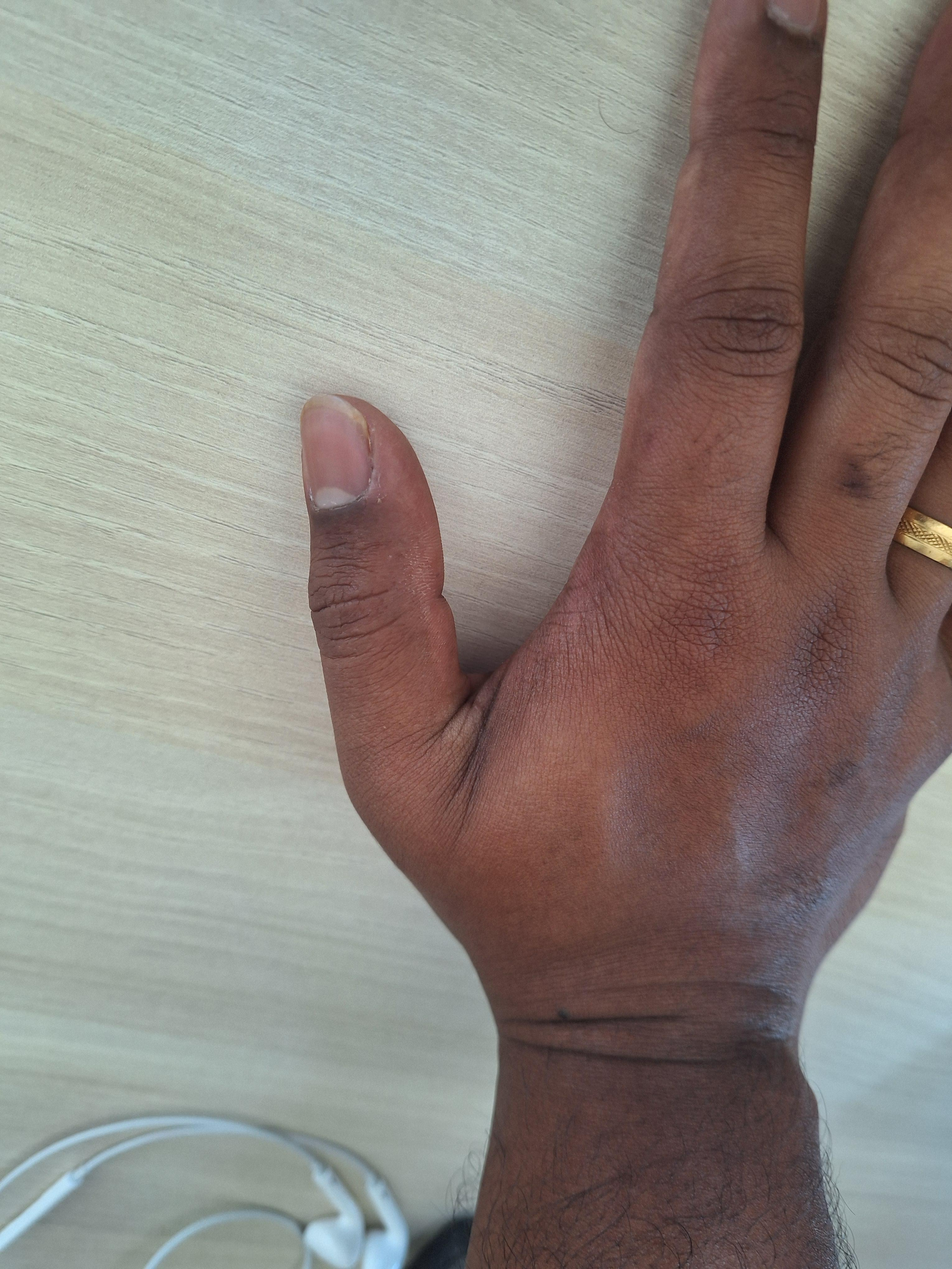Fingernail: (300, 398, 374, 508)
